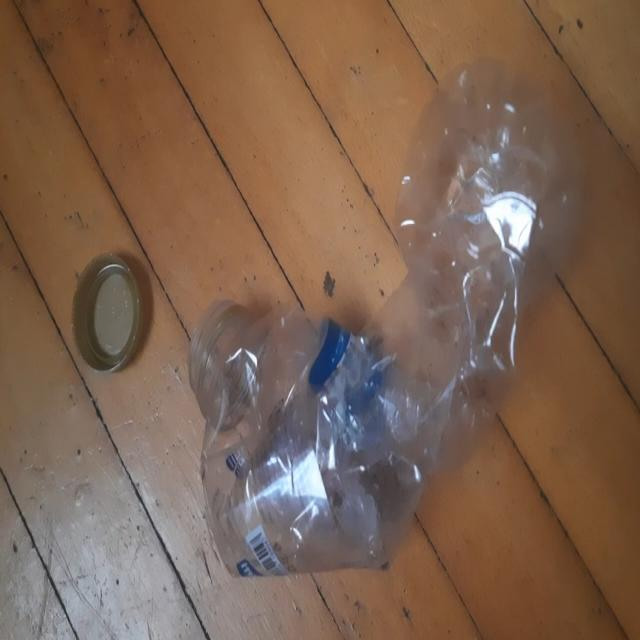Plastic: (189, 58, 573, 578), (70, 255, 154, 375)
